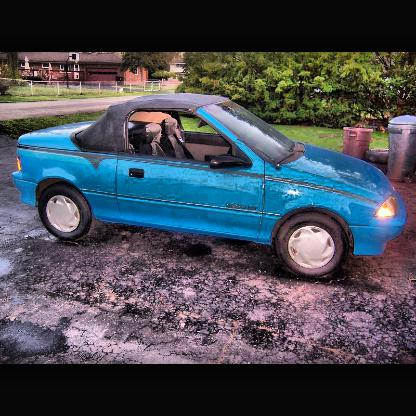Geo Metro Convertible 1993: (17, 91, 412, 276)
